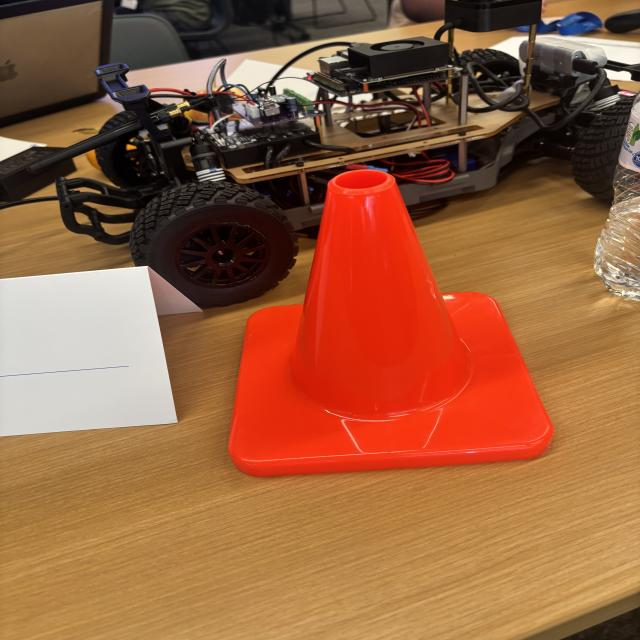Traffic Cone: (210, 164, 560, 477)
